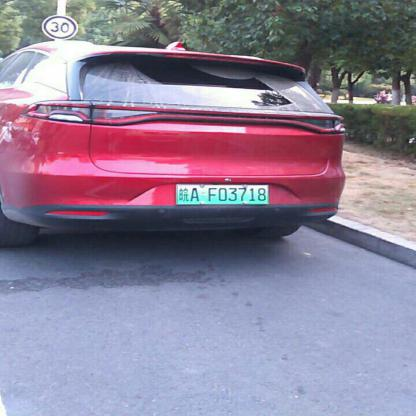lp: (177, 184, 268, 204)
